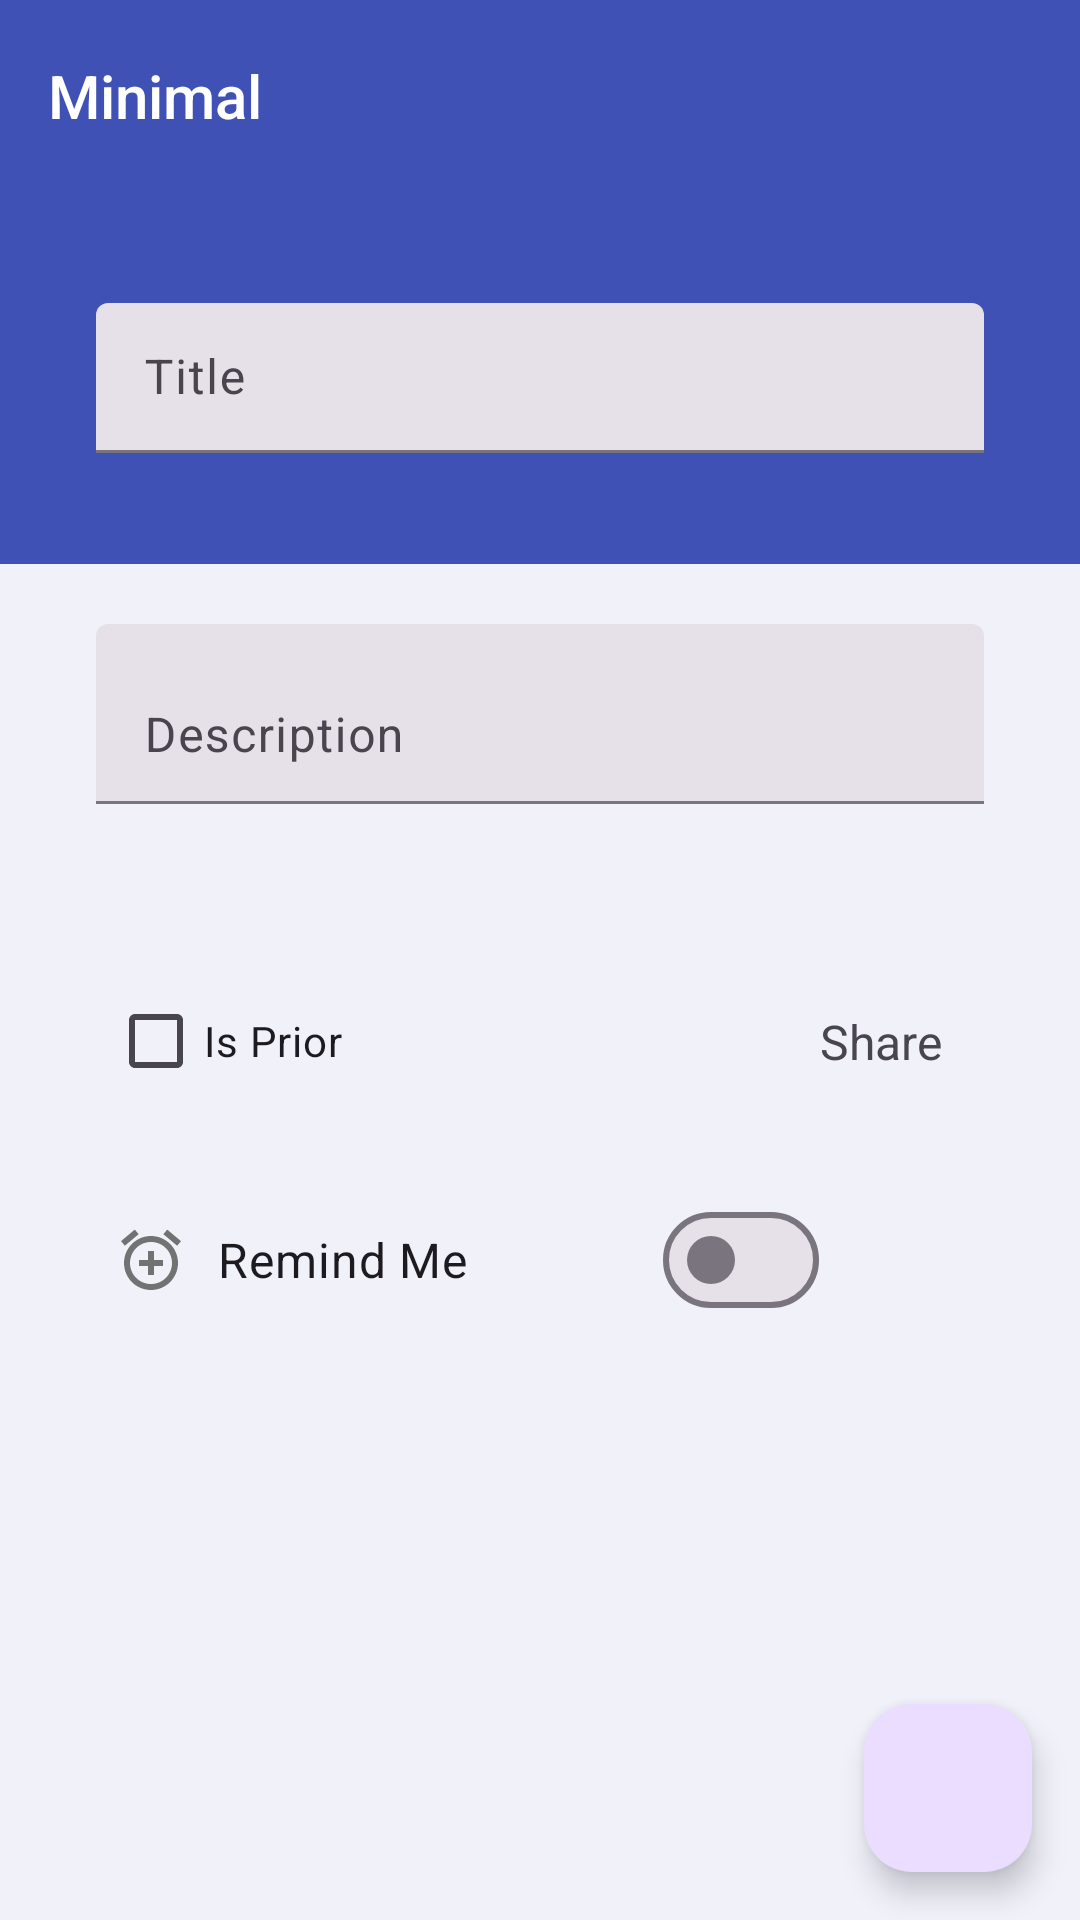

Icons on this 1080 × 1920 Android screen, each with the point to tap as [x,y]:
add alarm: [151,1260]
